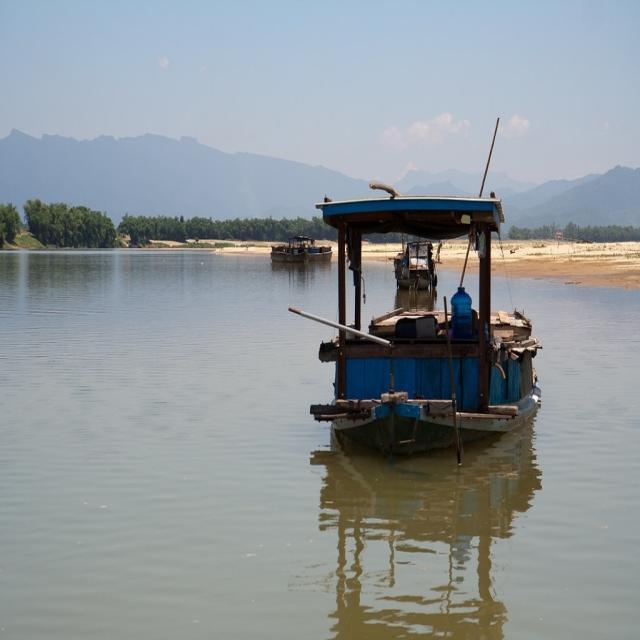boat: (304, 296, 545, 464), (387, 235, 440, 295), (267, 239, 335, 269)
